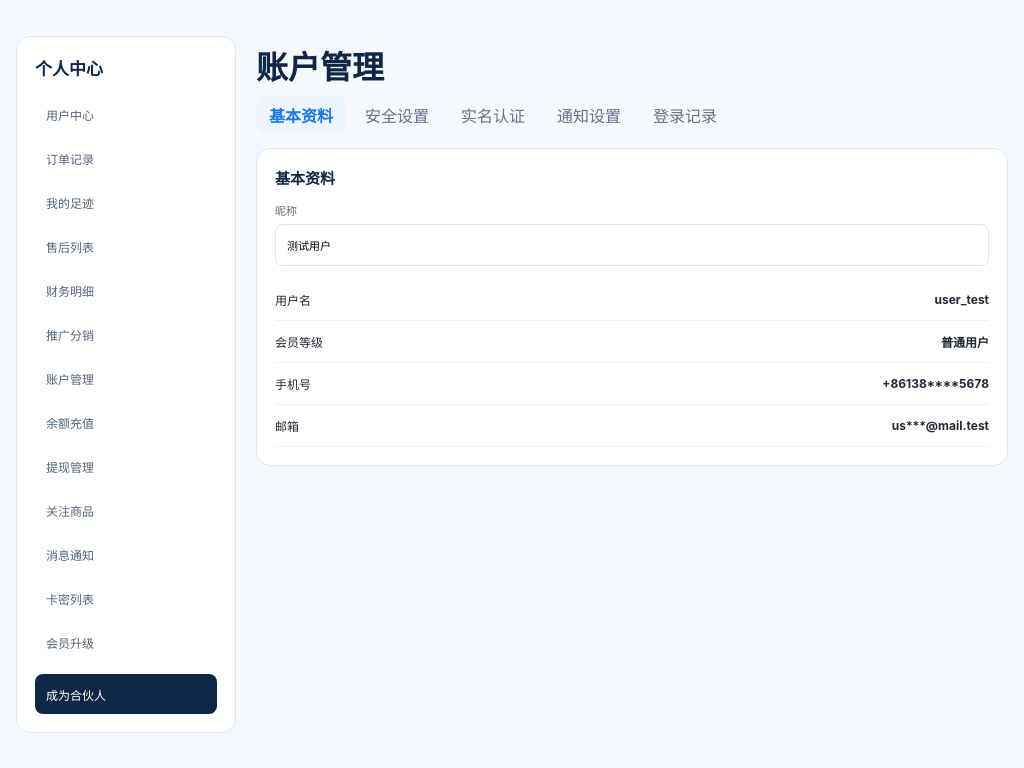
分站核心用户中心能力 › 账户管理读取真实安全信息且未验证写操作不伪造成功
Expected: the field showing "测试用户" is shown, [275,224,989,266]
Expected: the text "+86138****5678" is shown, [882,376,989,391]
Click the button "实名认证" at (493,115), box [448,96,538,134]
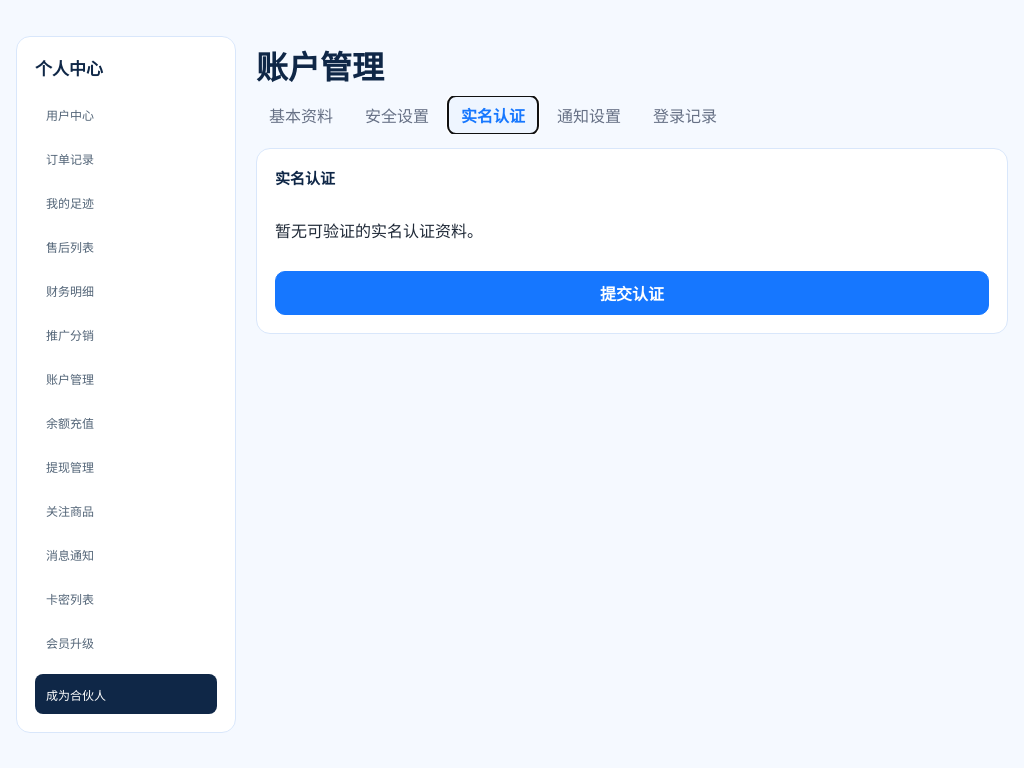
Expected: the button "提交认证" is disabled, [275,271,989,315]
Click the button "通知设置" at (589,115), box [544,96,634,134]
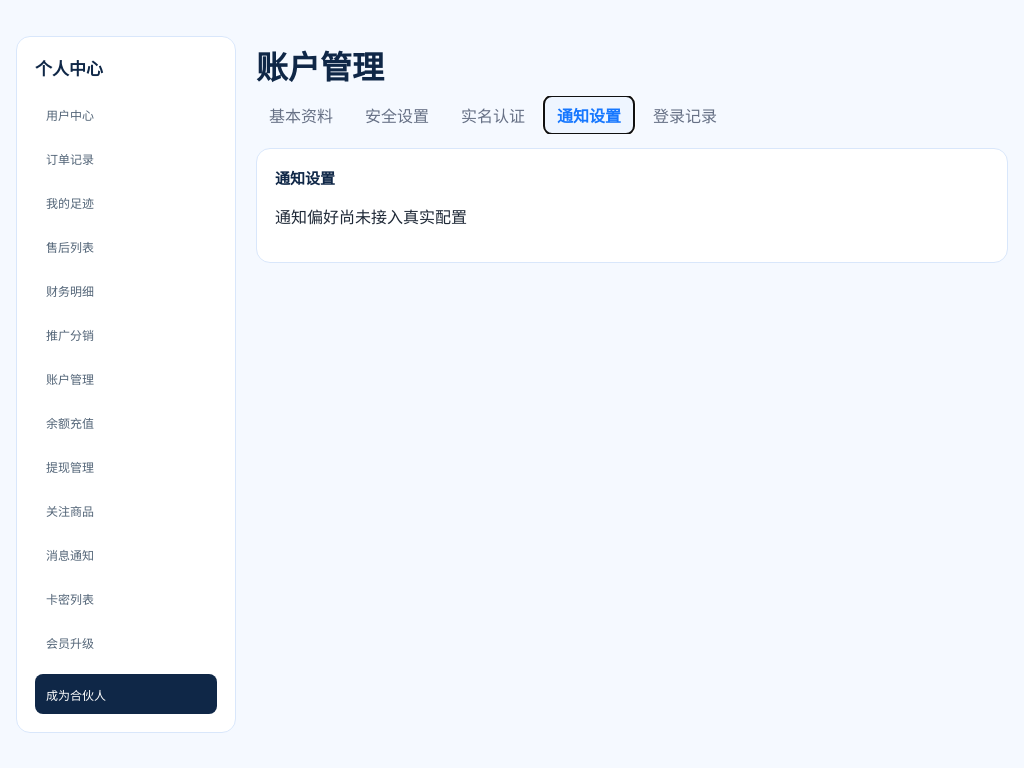
Expected: the text "通知偏好尚未接入真实配置" is shown, [275,207,467,227]
Click the button "登录记录" at (685,115), box [640,96,730,134]
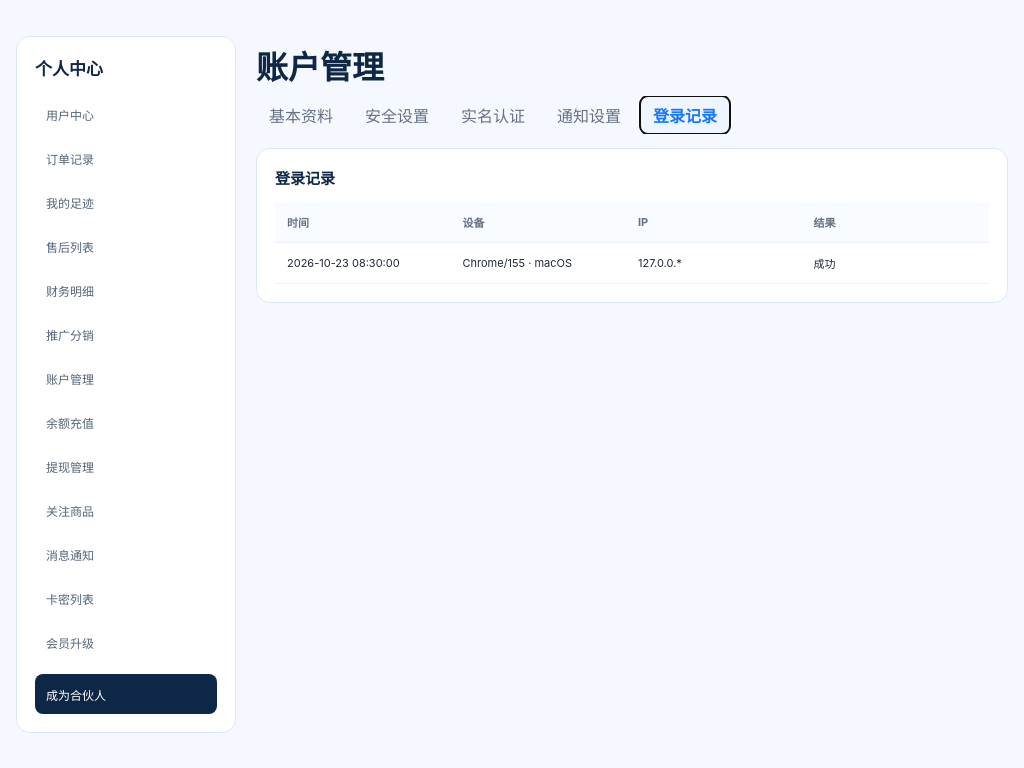
Expected: the text "Chrome/155 · macOS" is shown, [462,256,572,270]
